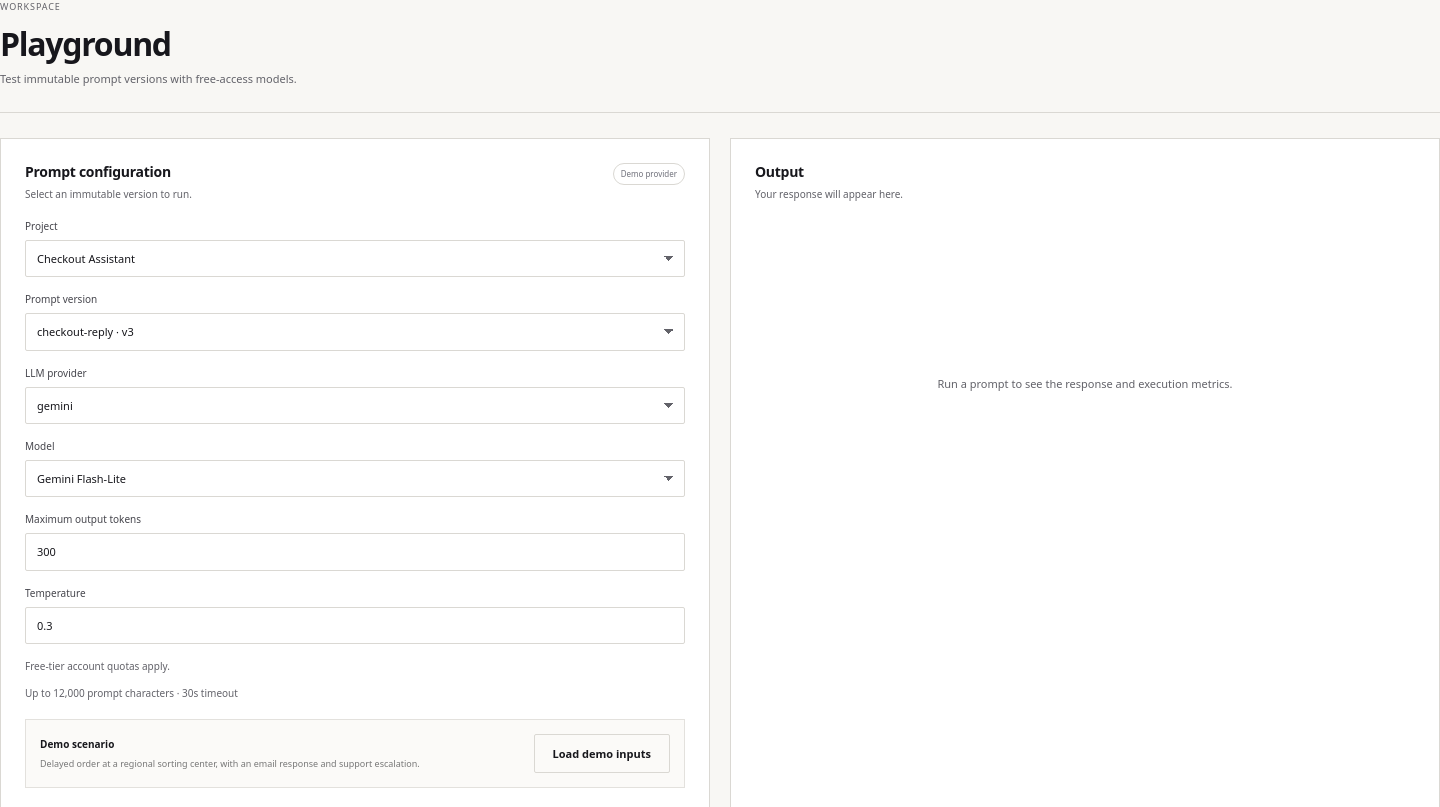
Test case: Playground run states › loads editable sample values for a demo run
Click the button "Load demo inputs" at (602, 754), box 534,734 -> 670,773
(page scrolled)
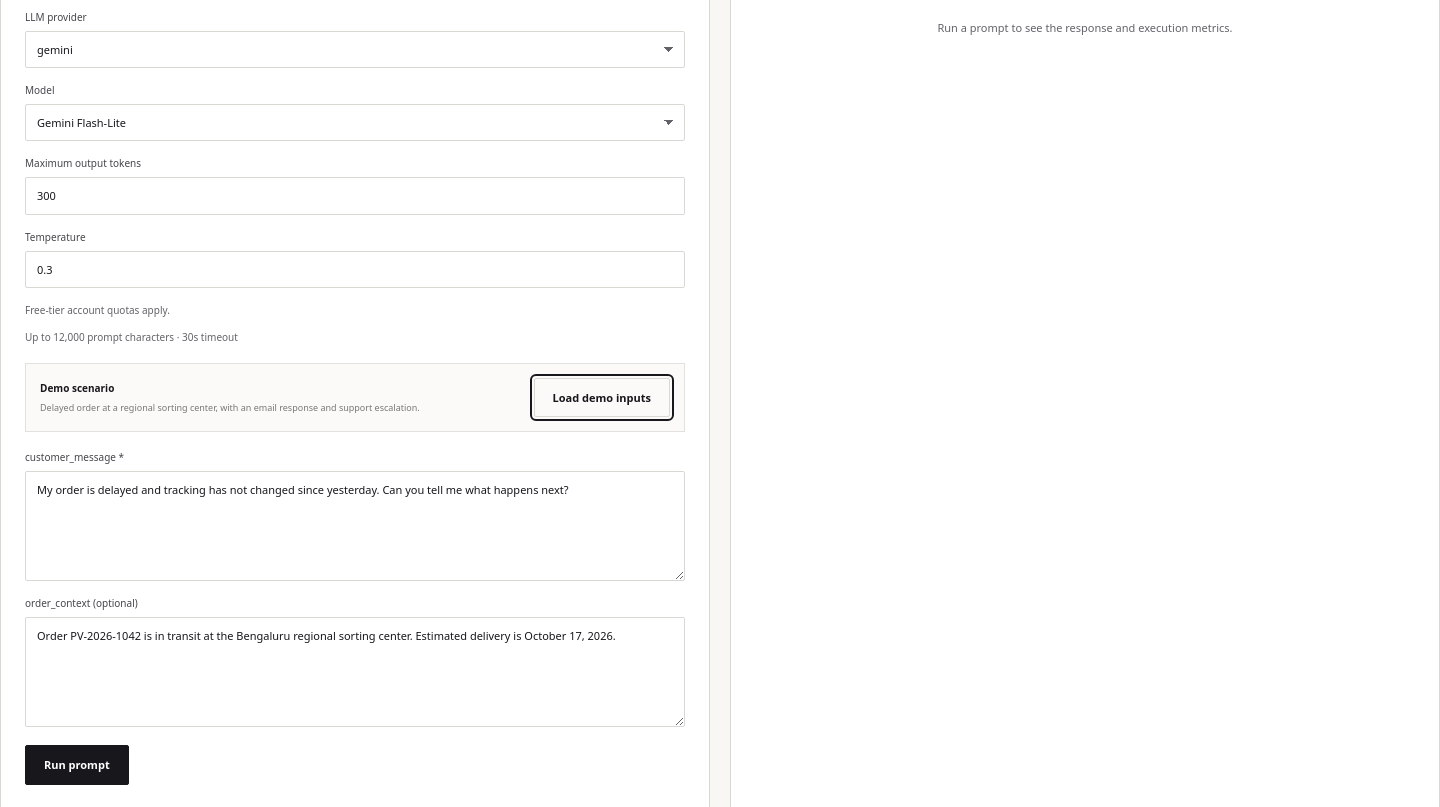
Check: the text box labelled "customer_message *" holds "My order is delayed and tracking has not changed since yesterday. Can you tell me what happens next?", box 25,471 -> 685,581
Check: the text box labelled "order_context (optional)" holds "Order PV-2026-1042 is in transit at the Bengaluru regional sorting center. Estimated delivery is October 17, 2026.", box 25,617 -> 685,727
